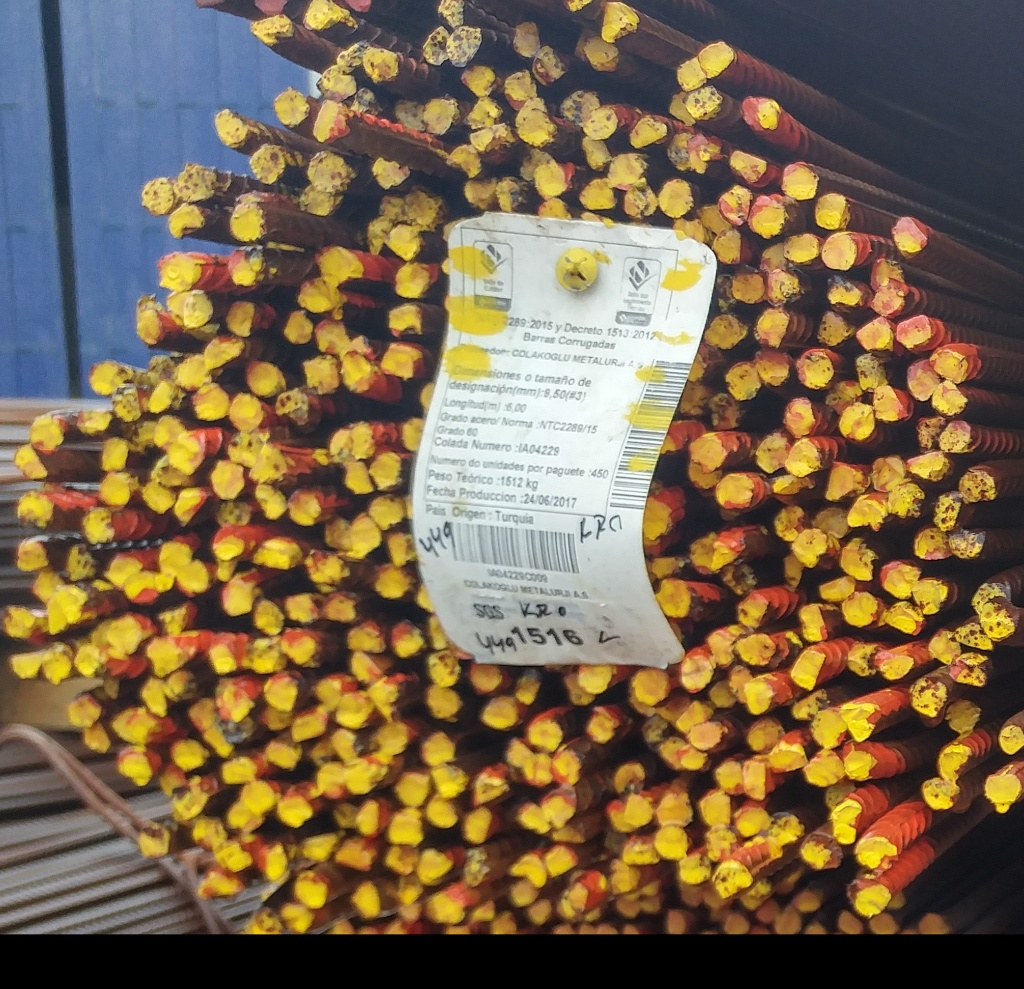dipstick: (47, 586, 88, 634), (307, 150, 352, 192), (471, 124, 514, 165), (175, 160, 216, 203), (403, 187, 442, 232), (157, 252, 202, 290), (667, 133, 708, 174), (317, 246, 362, 283), (243, 636, 287, 673), (305, 549, 351, 584), (253, 538, 303, 570), (750, 196, 787, 239), (113, 707, 156, 744), (216, 679, 253, 722), (846, 879, 890, 915), (116, 745, 162, 779), (795, 348, 834, 388), (313, 100, 351, 141), (315, 671, 356, 709), (907, 359, 943, 402), (297, 278, 341, 313), (981, 600, 1020, 639), (249, 444, 287, 484), (880, 560, 920, 598), (801, 833, 843, 869), (705, 313, 748, 348), (169, 433, 205, 474), (347, 760, 388, 796), (473, 765, 509, 806), (791, 650, 827, 691), (448, 26, 483, 68), (425, 890, 467, 925), (228, 248, 266, 286), (535, 163, 574, 200), (824, 461, 863, 498), (910, 678, 947, 717), (245, 360, 285, 396), (840, 539, 875, 580), (657, 578, 692, 619), (713, 864, 754, 899), (688, 134, 722, 176), (602, 4, 639, 42), (518, 109, 556, 146), (304, 354, 339, 394), (204, 336, 244, 371), (462, 96, 503, 130), (756, 433, 790, 474), (386, 808, 423, 845), (740, 96, 778, 132), (609, 153, 647, 189), (394, 262, 430, 300), (754, 348, 790, 386), (724, 361, 760, 399), (250, 145, 285, 184), (950, 652, 989, 687), (533, 46, 567, 86), (146, 638, 186, 672), (370, 451, 404, 491), (227, 432, 269, 464), (783, 396, 815, 438), (855, 838, 898, 869), (276, 389, 312, 426), (18, 491, 54, 528), (336, 838, 373, 874), (767, 269, 803, 306), (659, 180, 694, 218), (382, 343, 417, 381), (264, 674, 299, 712), (715, 474, 753, 509), (885, 602, 923, 637), (805, 751, 843, 786), (747, 718, 785, 753), (931, 348, 970, 382), (906, 451, 950, 481), (843, 742, 876, 782), (841, 704, 881, 737), (718, 185, 750, 226), (712, 529, 744, 570), (810, 507, 852, 538), (782, 163, 818, 199), (176, 353, 212, 389), (193, 384, 229, 420), (374, 565, 410, 601), (689, 434, 725, 470), (282, 627, 317, 664), (755, 309, 790, 346), (872, 386, 909, 421), (586, 706, 621, 743), (821, 232, 855, 270), (288, 489, 322, 527), (826, 273, 864, 307), (299, 184, 342, 214), (214, 109, 247, 148), (505, 69, 537, 109), (212, 459, 244, 499), (346, 621, 386, 653), (213, 840, 253, 872), (256, 842, 288, 882), (198, 872, 242, 901), (971, 583, 1012, 614), (699, 42, 734, 78), (321, 65, 356, 101), (341, 351, 371, 393), (369, 496, 404, 532), (857, 316, 893, 351), (786, 440, 821, 476), (633, 669, 669, 704), (275, 88, 309, 125), (419, 849, 453, 886), (168, 204, 205, 238), (817, 311, 854, 345), (302, 1, 340, 34), (230, 394, 263, 432), (915, 528, 954, 560), (43, 641, 72, 684), (643, 496, 672, 539), (585, 37, 620, 72), (336, 694, 371, 729), (838, 403, 873, 438), (230, 205, 264, 241), (709, 393, 743, 429), (795, 529, 829, 565), (912, 580, 948, 614), (510, 853, 546, 887), (562, 92, 599, 125), (388, 224, 421, 261), (255, 484, 288, 521), (1, 604, 34, 641), (391, 620, 424, 657), (277, 795, 314, 828), (895, 314, 932, 347), (888, 485, 925, 518), (729, 151, 767, 183), (856, 353, 888, 391), (680, 654, 712, 692), (448, 144, 482, 179), (363, 47, 398, 81), (388, 303, 423, 337), (15, 445, 49, 480), (109, 618, 143, 653), (893, 217, 928, 251), (933, 381, 967, 416), (842, 592, 876, 627), (630, 115, 666, 148), (90, 360, 126, 393), (372, 157, 409, 189), (423, 98, 455, 135), (147, 381, 184, 413), (223, 581, 255, 618), (226, 802, 263, 834), (869, 285, 906, 317), (429, 650, 461, 687), (736, 633, 774, 664), (479, 698, 517, 729), (464, 178, 498, 212), (395, 772, 429, 806), (31, 417, 64, 452), (154, 415, 187, 450), (928, 631, 961, 666), (938, 745, 971, 780), (295, 871, 327, 907), (732, 268, 764, 304), (830, 802, 858, 843), (321, 593, 358, 624), (849, 497, 886, 528), (249, 17, 293, 43), (172, 741, 210, 771), (356, 799, 385, 838), (315, 320, 349, 353), (374, 721, 408, 754), (521, 149, 556, 181), (176, 490, 208, 525), (433, 765, 468, 797), (385, 844, 420, 876), (463, 846, 491, 886), (946, 700, 981, 732), (816, 193, 847, 229), (582, 109, 618, 140), (579, 178, 615, 209), (83, 508, 114, 544), (284, 593, 320, 624), (734, 806, 770, 837), (708, 825, 739, 861), (542, 788, 578, 819), (463, 807, 493, 844), (142, 178, 172, 215), (799, 605, 829, 642), (691, 534, 718, 575), (873, 652, 914, 679), (212, 525, 244, 559), (873, 457, 905, 491), (686, 88, 721, 119), (106, 555, 141, 586), (178, 559, 209, 594), (254, 599, 284, 635), (226, 300, 255, 337), (67, 544, 96, 581), (958, 471, 995, 500), (923, 779, 960, 808), (933, 492, 961, 530), (948, 531, 986, 559), (553, 748, 581, 786), (337, 40, 369, 73), (141, 480, 174, 512), (194, 818, 227, 850), (423, 732, 456, 764), (940, 420, 973, 452), (848, 644, 881, 676), (427, 686, 459, 719), (955, 623, 994, 650), (460, 66, 495, 96), (142, 676, 167, 718), (140, 825, 170, 860), (241, 782, 276, 812), (623, 836, 658, 866), (713, 229, 742, 265), (496, 178, 525, 214), (154, 458, 190, 487), (220, 716, 256, 745), (265, 742, 301, 771), (318, 765, 347, 801), (721, 564, 757, 593), (984, 774, 1020, 803), (656, 797, 692, 826), (352, 881, 380, 918), (624, 187, 656, 219), (514, 98, 547, 129), (99, 473, 130, 506), (351, 517, 382, 550), (68, 695, 101, 726), (871, 259, 904, 290), (185, 291, 213, 327), (709, 628, 736, 665), (745, 677, 772, 714), (17, 540, 49, 571), (159, 543, 191, 574), (189, 698, 220, 730), (656, 826, 687, 858), (282, 904, 315, 934), (769, 812, 802, 842), (579, 662, 612, 692), (367, 217, 393, 255), (215, 500, 253, 526), (221, 759, 259, 785), (784, 233, 818, 262), (125, 572, 159, 601), (291, 714, 325, 743), (826, 381, 860, 410), (680, 383, 709, 417), (917, 416, 946, 450), (525, 752, 553, 787), (113, 385, 140, 421), (101, 436, 128, 472), (351, 87, 382, 118), (737, 597, 768, 628), (676, 701, 706, 733), (529, 719, 561, 749), (284, 311, 313, 344), (370, 682, 399, 715), (690, 722, 723, 751), (701, 794, 730, 827), (775, 506, 803, 540), (743, 760, 766, 801), (351, 421, 375, 460), (679, 855, 710, 885), (546, 845, 577, 875), (350, 653, 382, 682), (697, 203, 730, 231), (716, 761, 743, 795), (514, 22, 540, 57), (137, 310, 163, 345), (300, 833, 335, 859), (470, 663, 500, 693), (333, 731, 362, 762), (615, 763, 644, 794), (518, 803, 549, 832), (677, 58, 705, 90), (582, 138, 610, 170), (395, 99, 423, 131), (75, 645, 103, 677), (624, 794, 652, 826), (173, 793, 206, 820), (346, 461, 373, 494), (687, 462, 721, 488), (516, 669, 541, 704), (819, 576, 857, 599), (34, 572, 64, 601), (377, 193, 405, 224), (611, 861, 639, 892), (658, 692, 689, 720), (210, 644, 237, 676), (427, 800, 459, 827), (549, 820, 585, 844), (324, 517, 350, 550), (729, 666, 752, 703), (770, 749, 807, 772), (165, 673, 200, 697), (204, 728, 234, 756), (148, 355, 175, 386), (384, 531, 407, 567), (660, 738, 685, 771), (78, 409, 112, 433), (565, 675, 593, 704), (83, 727, 111, 755), (607, 802, 634, 831), (161, 608, 191, 634), (774, 475, 815, 494), (673, 217, 704, 242), (10, 653, 41, 678), (759, 243, 786, 271), (329, 428, 350, 464), (130, 421, 155, 451), (710, 681, 736, 709), (538, 198, 571, 220), (167, 292, 187, 327), (643, 714, 668, 742), (402, 417, 423, 450), (1000, 723, 1022, 754), (161, 765, 187, 791), (679, 744, 707, 768), (652, 557, 683, 578), (256, 906, 281, 932), (441, 1, 468, 25), (262, 707, 290, 729), (334, 802, 356, 829), (784, 554, 801, 588)
